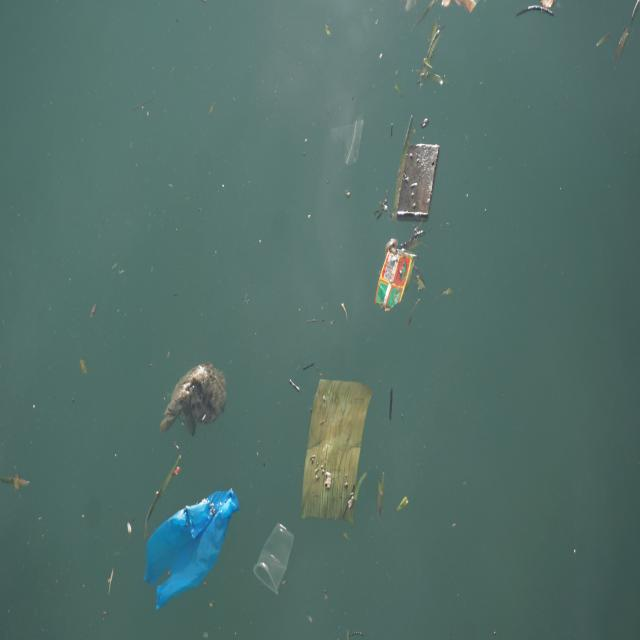Bungkus Makanan: (375, 239, 417, 316)
Bungkus Minuman: (252, 521, 295, 598)
Kantong Plastik: (143, 485, 239, 609)
